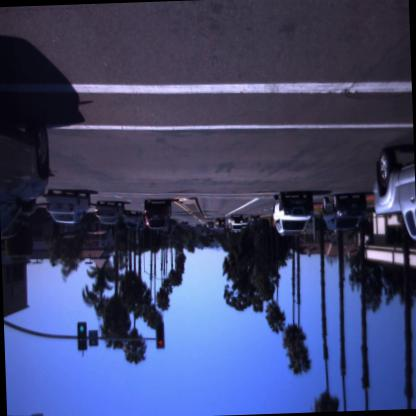trafficlight: (151, 314, 166, 354), (75, 317, 89, 355)
